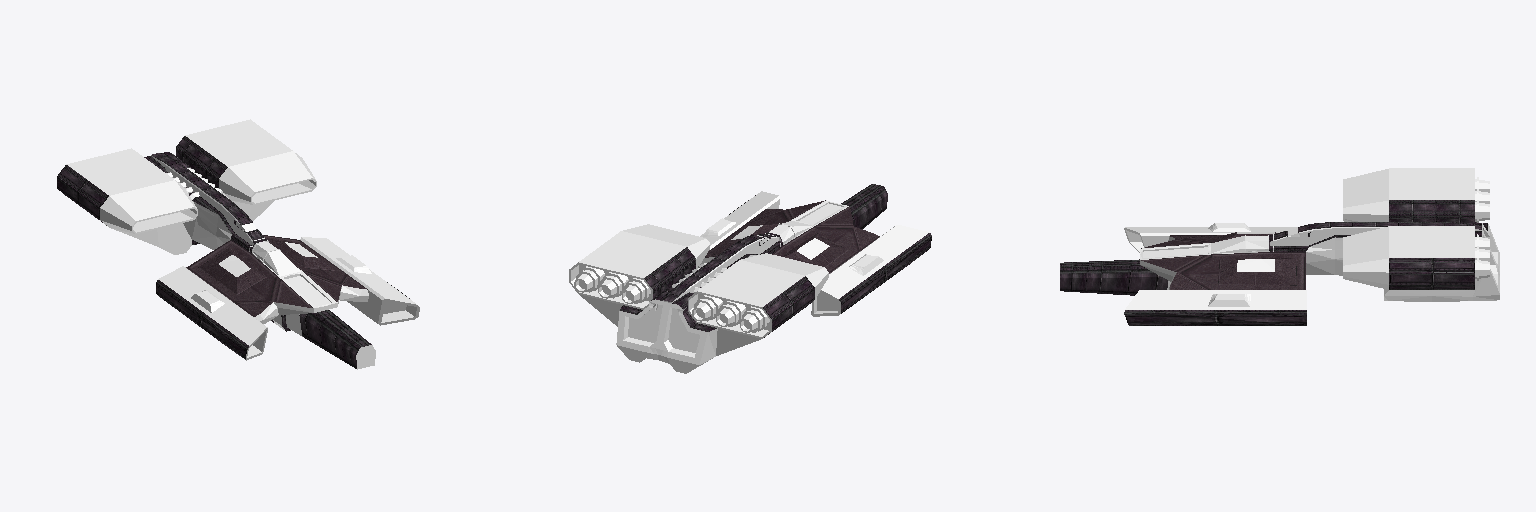
The picture shows the model from 3 angles: view 1: azimuth 30°, elevation 25°; view 2: azimuth 150°, elevation 25°; view 3: azimuth 270°, elevation 25°; orthographic projection.
Parts seen in each view (by area): view 1: Hyperion_Heavy; view 2: Hyperion_Heavy; view 3: Hyperion_Heavy.
Part boxes in pixels (bbox=[...]): Hyperion_Heavy: bbox=[57, 119, 419, 369]; Hyperion_Heavy: bbox=[569, 184, 931, 373]; Hyperion_Heavy: bbox=[1060, 168, 1499, 325].
Size of the model in its own units: 131 by 52.83 by 247.
9 materials, 2 textured.